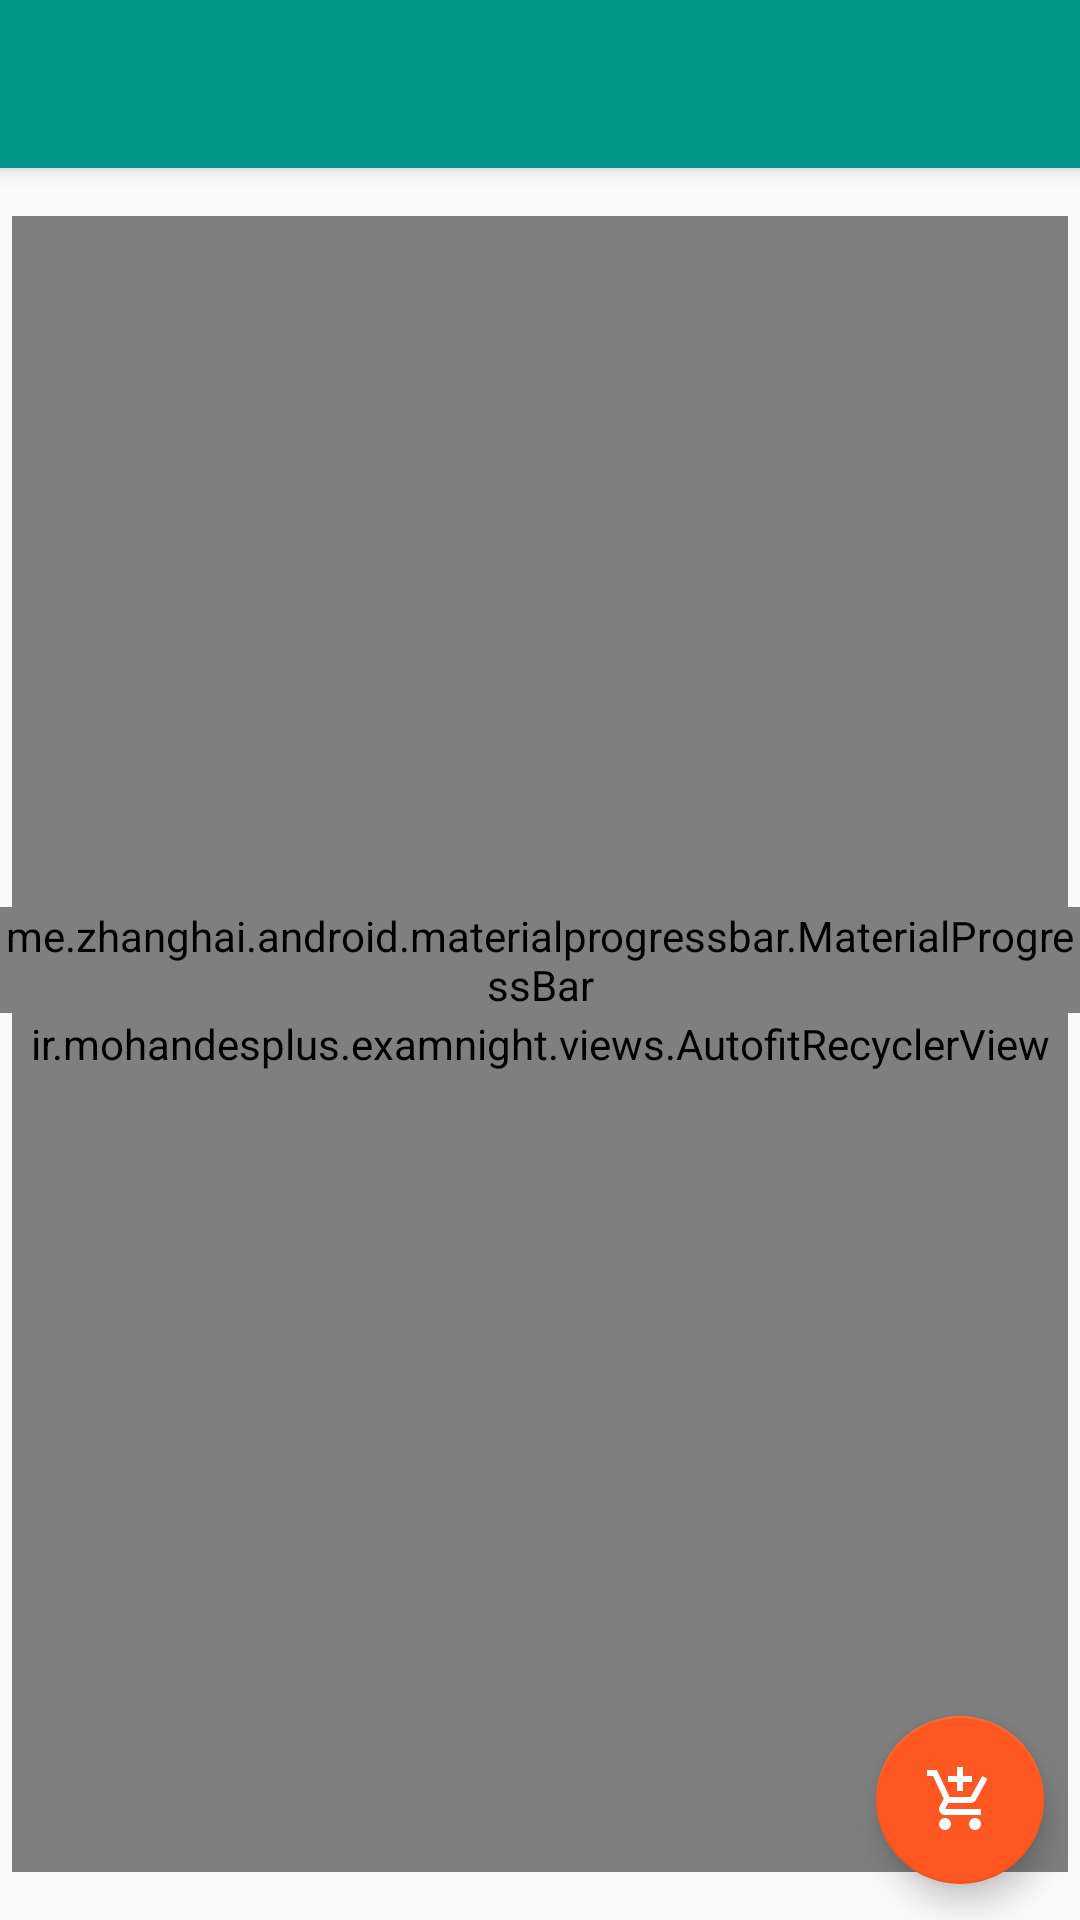

Named icons in this screenshot (1080 x 1920) and their bounding boxes, (x1, y1, x2, y2):
add shopping cart: (876, 1716, 1044, 1884)
